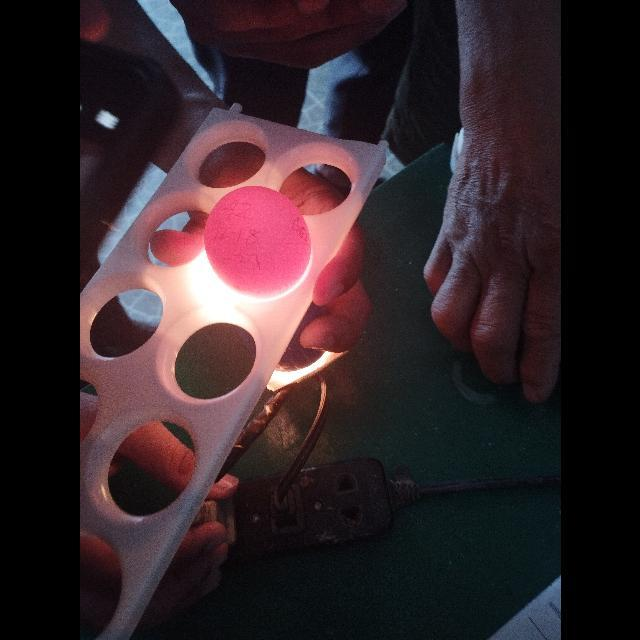Infertile: (204, 190, 306, 288)
